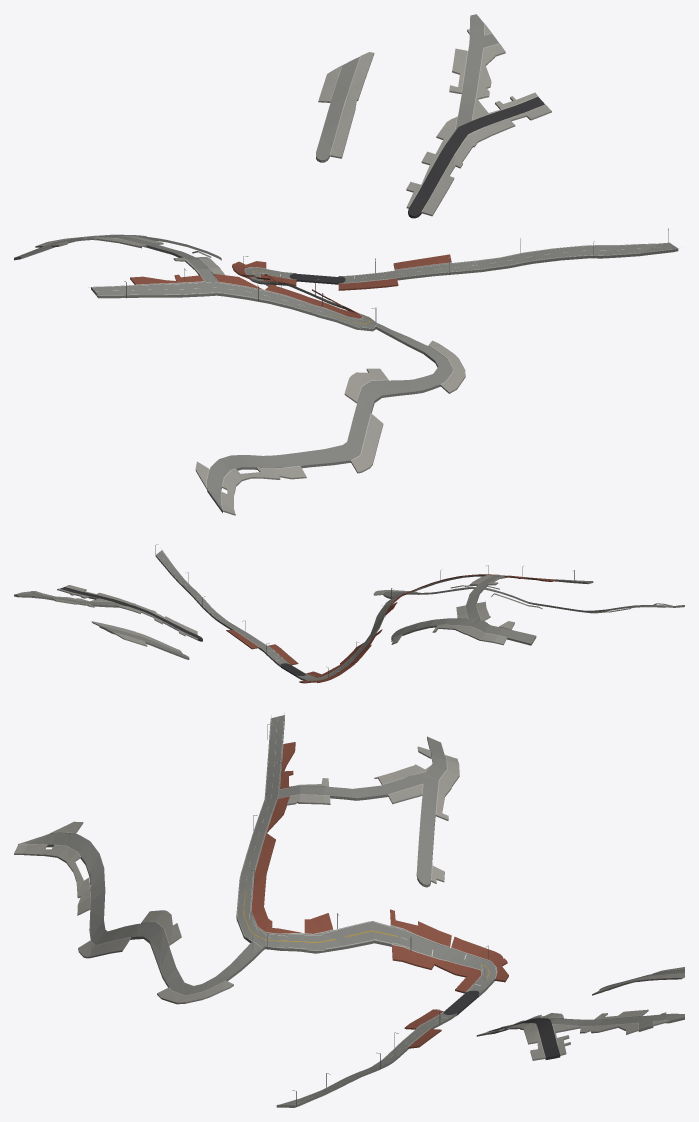
3 renders of one model, top to bottom at view 1: azimuth 30°, elevation 25°; view 2: azimuth 150°, elevation 25°; view 3: azimuth 270°, elevation 25°, orthographic. The views are drawn at different scales.
Bounding box in the file's own units: 298 × 75.21 × 289.
